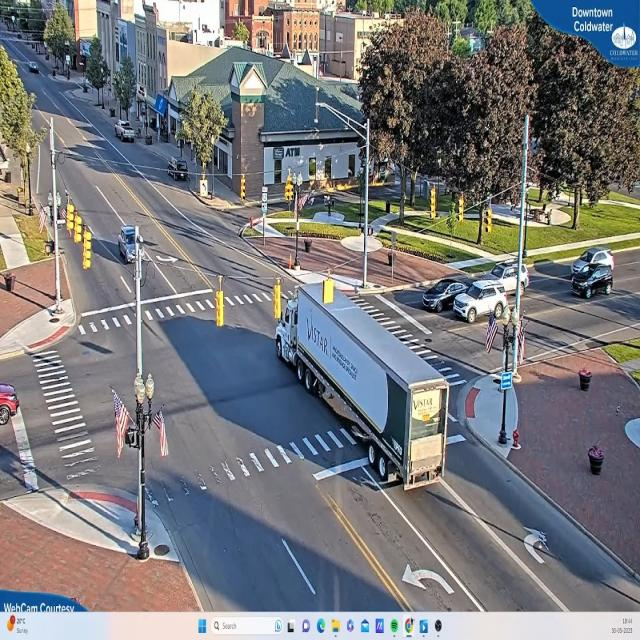car: (452, 284, 512, 326), (570, 250, 615, 301), (421, 279, 476, 312), (476, 264, 531, 296), (1, 384, 22, 423), (117, 122, 137, 144), (28, 62, 40, 73)
truck: (274, 281, 452, 490)
